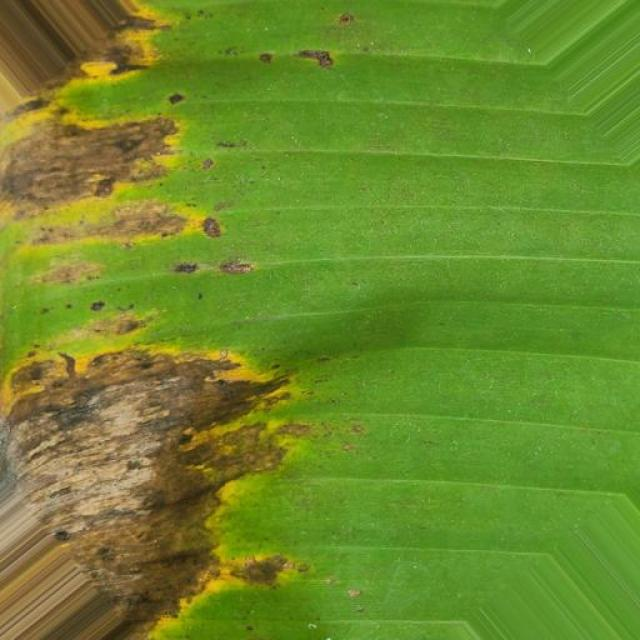Early_rust: (0, 0, 417, 640)
